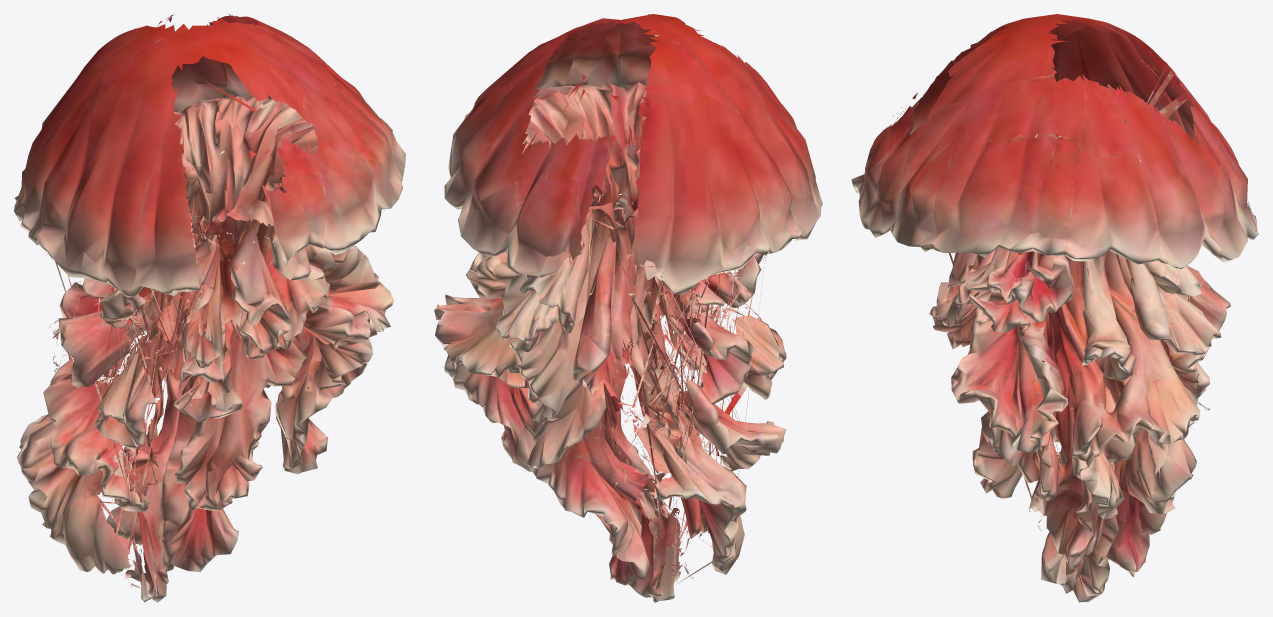
File: jellyfish-real.glb
The picture shows the model from 3 angles, left to right: view 1: azimuth 30°, elevation 25°; view 2: azimuth 150°, elevation 25°; view 3: azimuth 270°, elevation 25°; orthographic projection. The views are drawn at different scales.
Bounding box in the file's own units: 0.2523 × 0.4003 × 0.2504.
1 material, 1 textured.
